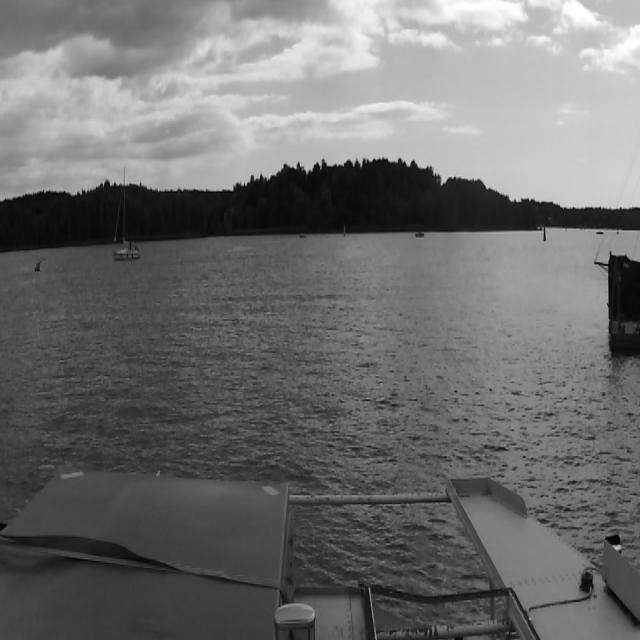buoy: (542, 225, 546, 243), (342, 224, 346, 236), (344, 224, 346, 240)
ship: (109, 156, 143, 266), (32, 258, 42, 273), (593, 228, 605, 234), (415, 231, 423, 237), (297, 231, 305, 237)
